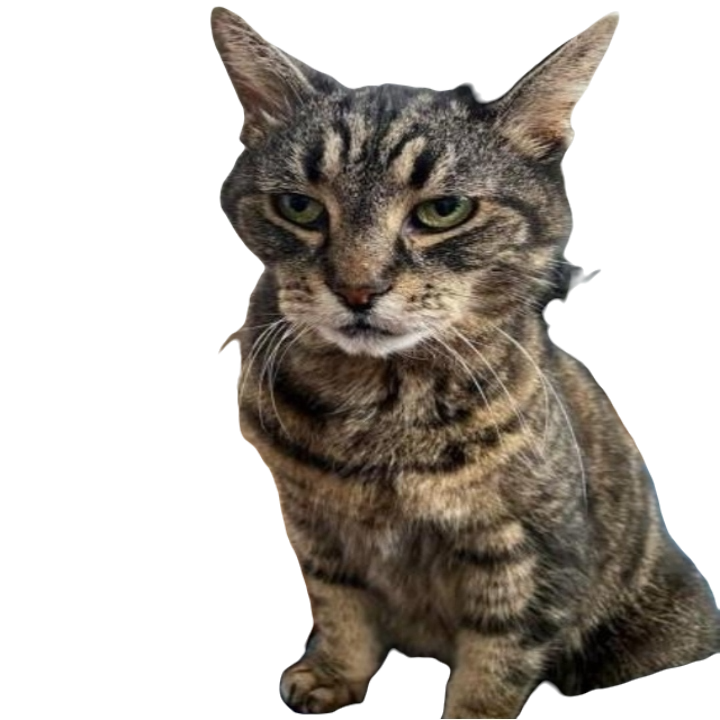Cat: (191, 2, 719, 718)
